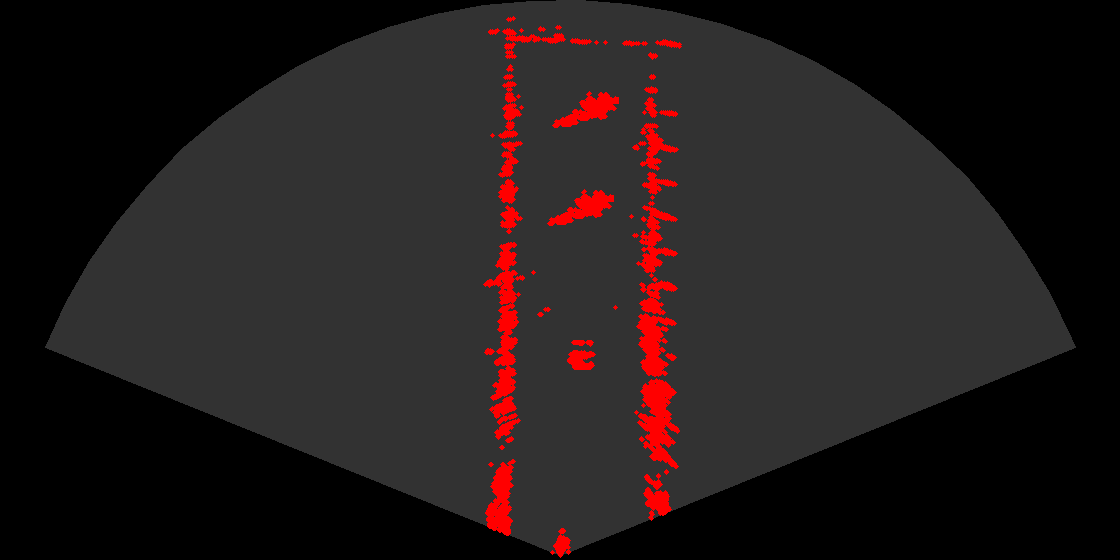ball: (547, 332, 607, 373)
frogman: (546, 183, 614, 230), (551, 85, 619, 132)
